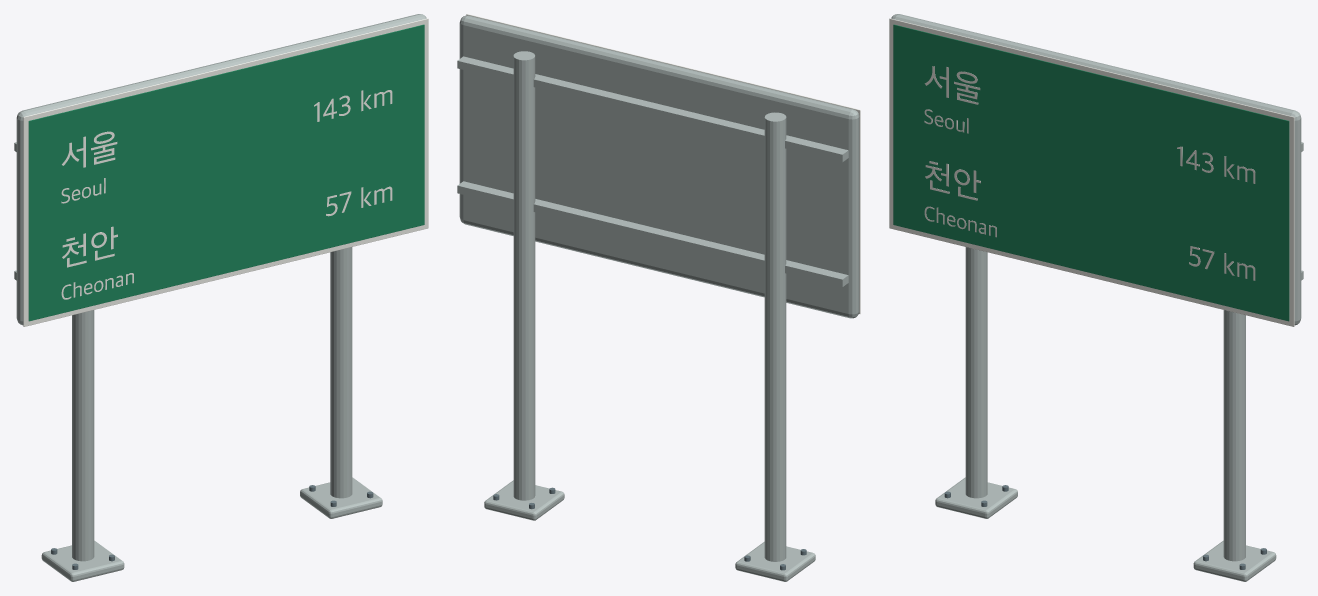
The model's file is SIMUS_KGuide_Distance.glb.
The picture shows the model from 3 angles, left to right: view 1: azimuth 30°, elevation 25°; view 2: azimuth 150°, elevation 25°; view 3: azimuth 330°, elevation 25°; orthographic projection. The views are drawn at different scales.
Parts seen in each view (by area): view 1: Green face.001, White perimeter.001, Support pole.002, Support pole.003, Aluminium sign back.001, Foot plate.003, Foot plate.002, Text 서울, Text 천안, Text 143 km; view 2: Aluminium sign back.001, Support pole.003, Support pole.002, Rear stiffener.003, Rear stiffener.002, Foot plate.002, Foot plate.003, White perimeter.001; view 3: Green face.001, White perimeter.001, Support pole.002, Support pole.003, Aluminium sign back.001, Foot plate.002, Foot plate.003, Text 서울, Text 천안, Text 143 km.
Part boxes in pixels (x1,y1,x2,y2): Green face.001: (28, 24, 424, 321); White perimeter.001: (23, 18, 428, 326); Support pole.002: (72, 310, 94, 561); Support pole.003: (330, 247, 352, 498); Aluminium sign back.001: (16, 14, 426, 325); Foot plate.003: (300, 477, 382, 518); Foot plate.002: (41, 540, 124, 581); Text 서울: (62, 131, 117, 167); Text 천안: (62, 226, 117, 267); Text 143 km: (314, 90, 392, 121); Aluminium sign back.001: (459, 15, 859, 318); Support pole.003: (513, 51, 535, 500); Support pole.002: (764, 112, 786, 561); Rear stiffener.003: (457, 56, 848, 162); Rear stiffener.002: (457, 181, 848, 287); Foot plate.002: (735, 541, 815, 581); Foot plate.003: (484, 480, 564, 520); White perimeter.001: (466, 14, 860, 313); Green face.001: (893, 24, 1289, 321); White perimeter.001: (889, 18, 1294, 326); Support pole.002: (965, 247, 987, 498); Support pole.003: (1223, 310, 1245, 561); Aluminium sign back.001: (891, 14, 1301, 325); Foot plate.002: (935, 477, 1017, 518); Foot plate.003: (1193, 540, 1276, 581); Text 서울: (924, 66, 980, 104); Text 천안: (925, 161, 980, 200); Text 143 km: (1177, 146, 1255, 183).
Bounding box in the file's own units: 3.8 × 4.25 × 0.5.
